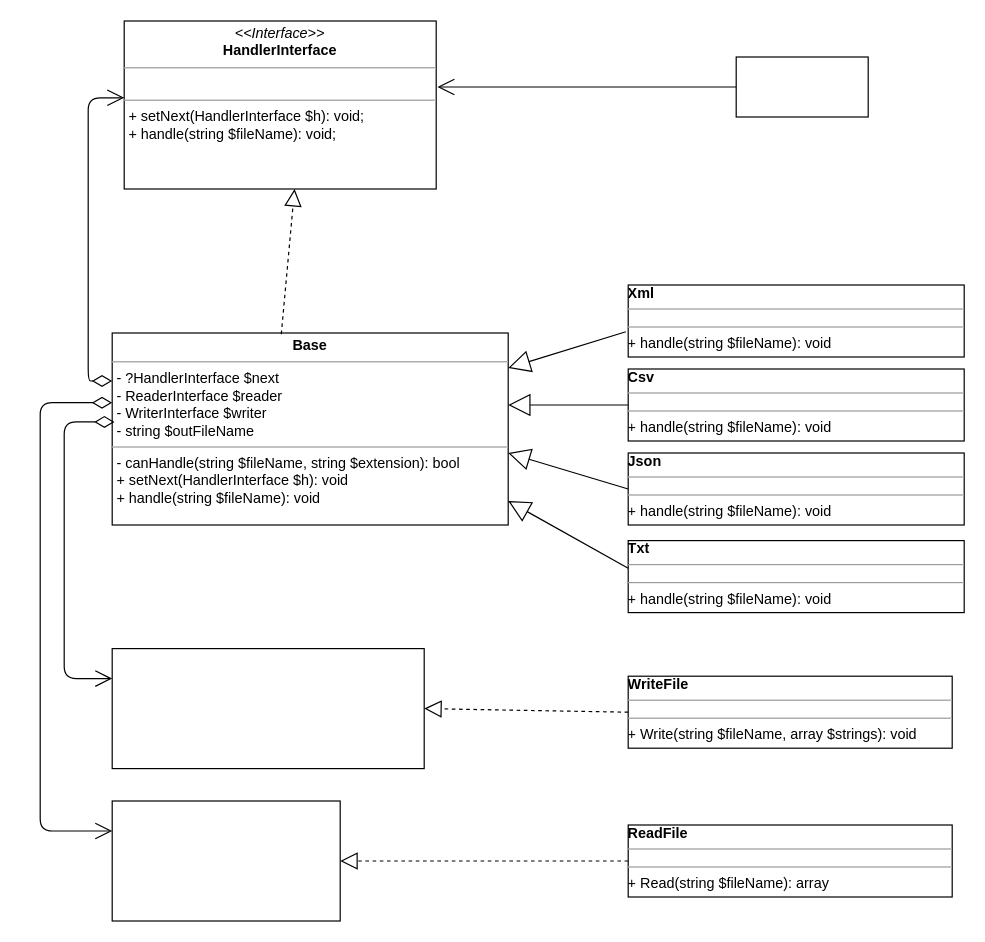
This 985x942 diagram has some shape labels left out. The shapes that lost their labels are listed below. From the top down, each one's centre as x and y in pixels, then its label:
the point at 801,86: Client
the point at 267,708: <<Interface>> WriterInterface + Write(string $fileName, array $strings): void;
the point at 225,860: <<Interface>> ReaderInterface + Read(string $fileName): array;
